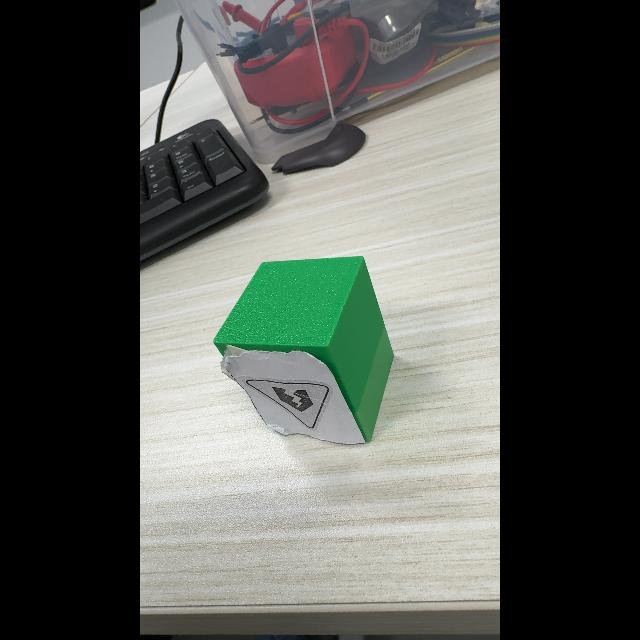Earthquake: (246, 379, 331, 429)
